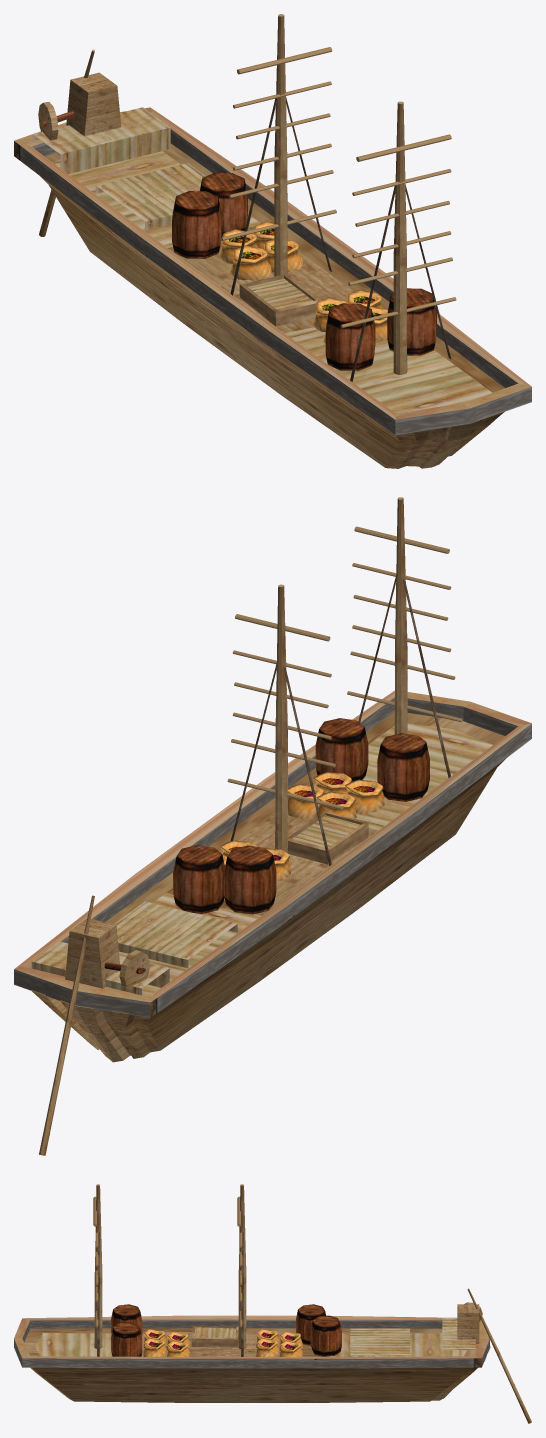
File: ship_merc.dae
The picture shows the model from 3 angles, top to bottom: view 1: azimuth 30°, elevation 25°; view 2: azimuth 150°, elevation 25°; view 3: azimuth 270°, elevation 25°; orthographic projection. The views are drawn at different scales.
Parts seen in each view (by area): view 1: merc_ship.002; view 2: merc_ship.002; view 3: merc_ship.002.
Boxes of the visible parts, left/top/right/bottom form: merc_ship.002: left=14, top=14, right=531, bottom=468; merc_ship.002: left=14, top=497, right=531, bottom=1155; merc_ship.002: left=14, top=1184, right=531, bottom=1423.
Bounding box in the file's own units: 5.7 × 28.9 × 14.67.
Materials: 1 (1 with a texture image).
